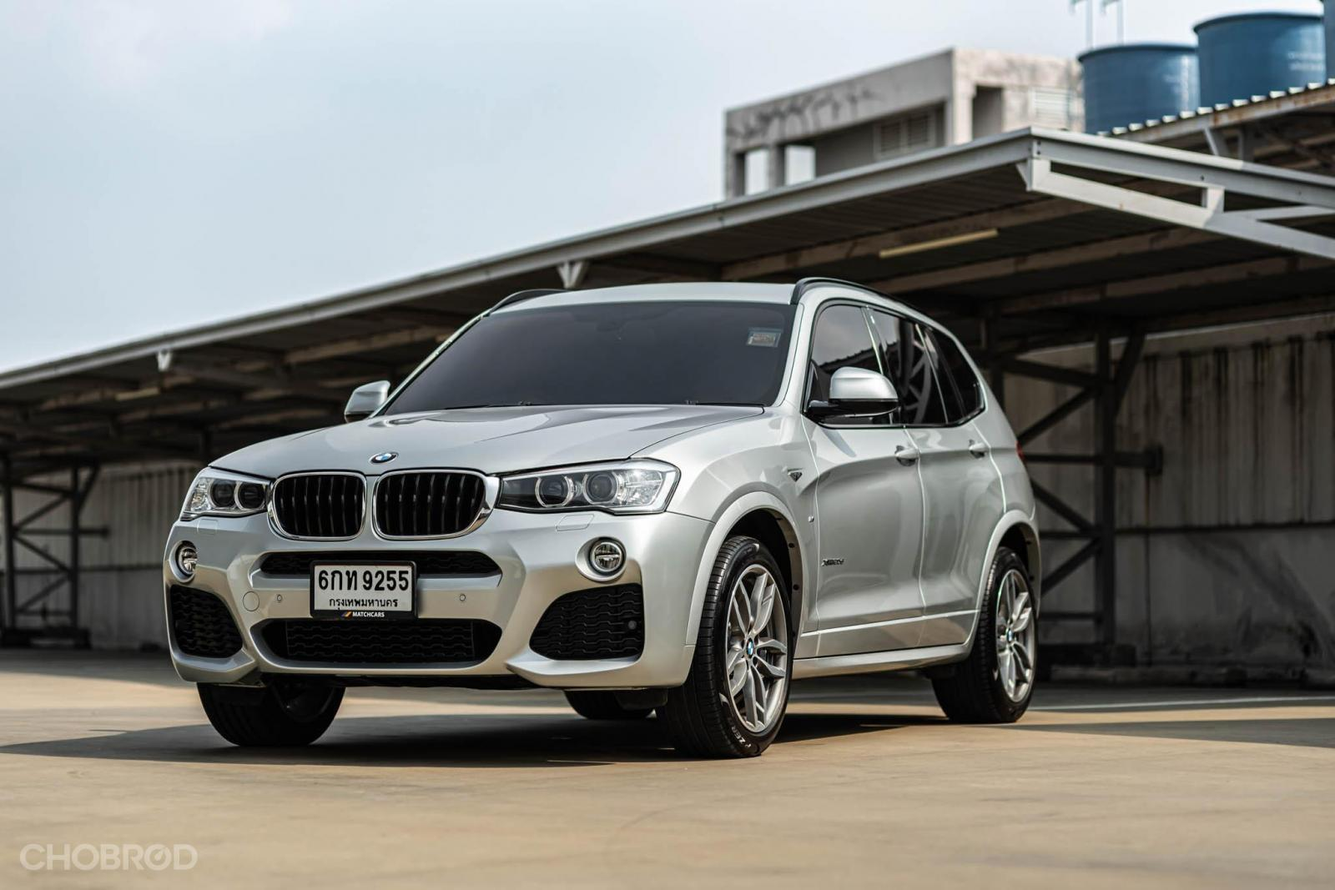license-plate: (307, 547, 427, 622)
